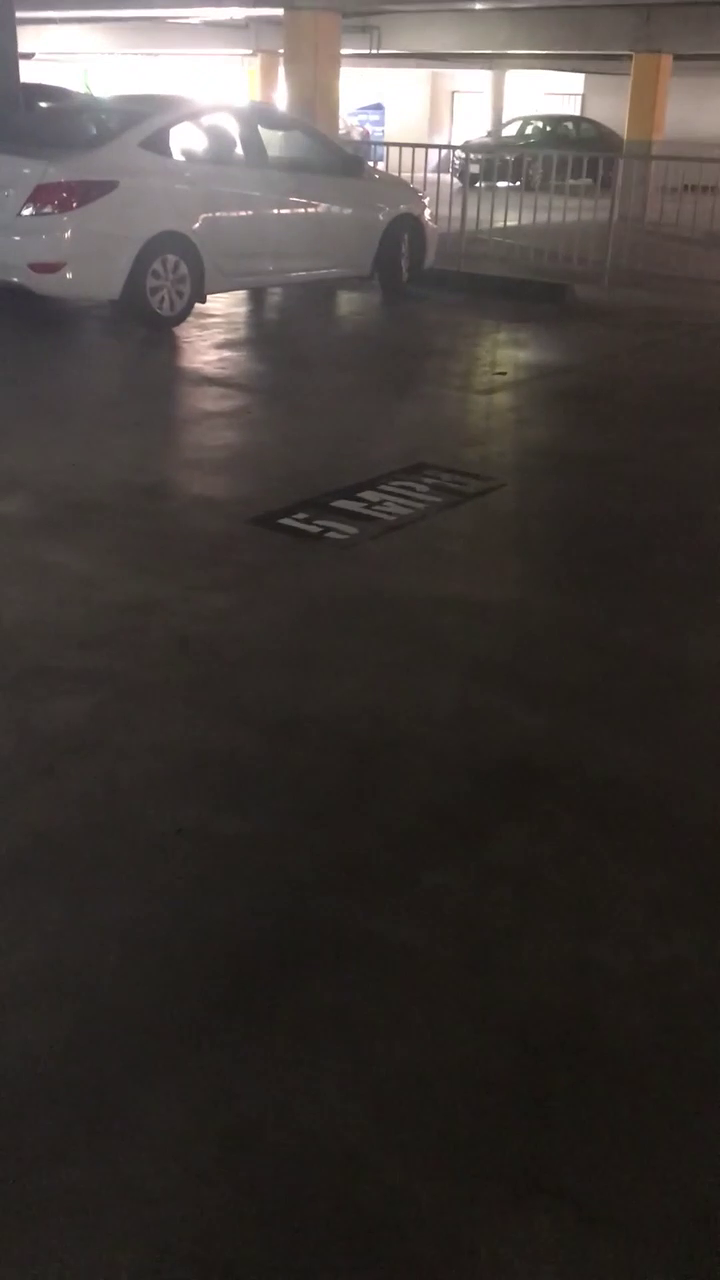car: (3, 76, 425, 335)
